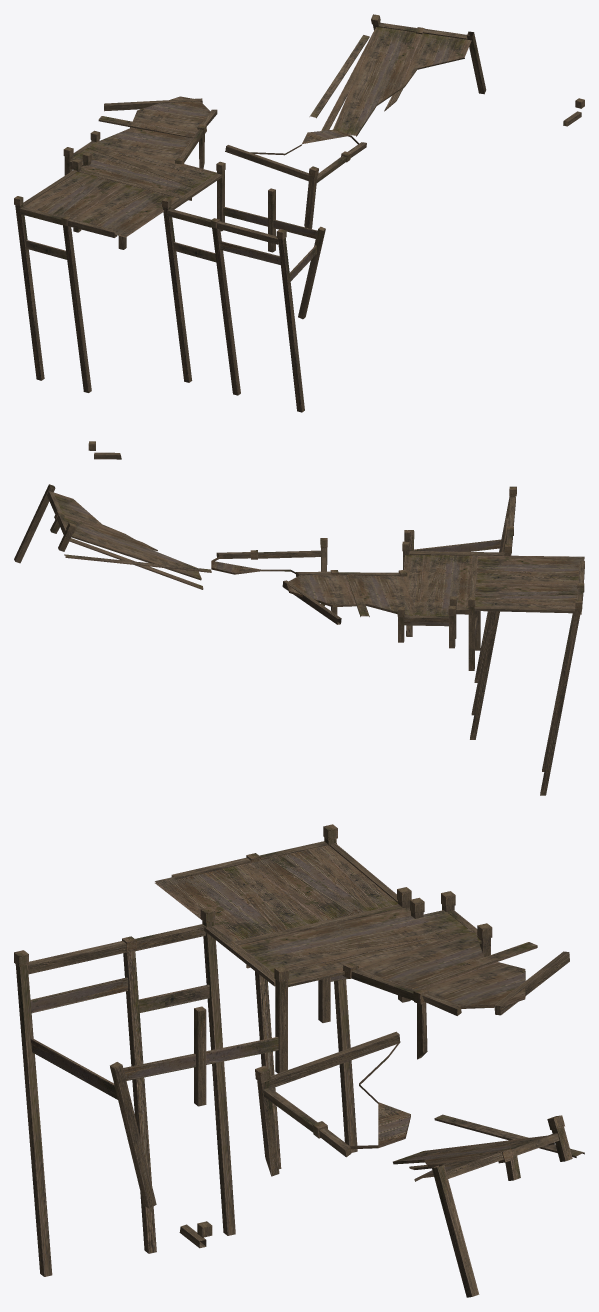
Rendered from b_zx_muzhandao01.FBX.
3 renders of one model, top to bottom at view 1: azimuth 30°, elevation 25°; view 2: azimuth 150°, elevation 25°; view 3: azimuth 270°, elevation 25°, orthographic. The views are drawn at different scales.
Visible parts, largest first — view 1: b_zx_muzhandao01; view 2: b_zx_muzhandao01; view 3: b_zx_muzhandao01.
Part boxes in pixels (x1,y1,x2,y2): b_zx_muzhandao01: (14, 14, 584, 412); b_zx_muzhandao01: (14, 441, 584, 795); b_zx_muzhandao01: (14, 824, 584, 1297).
Size of the model in its own units: 39.49 by 15.53 by 23.63.
